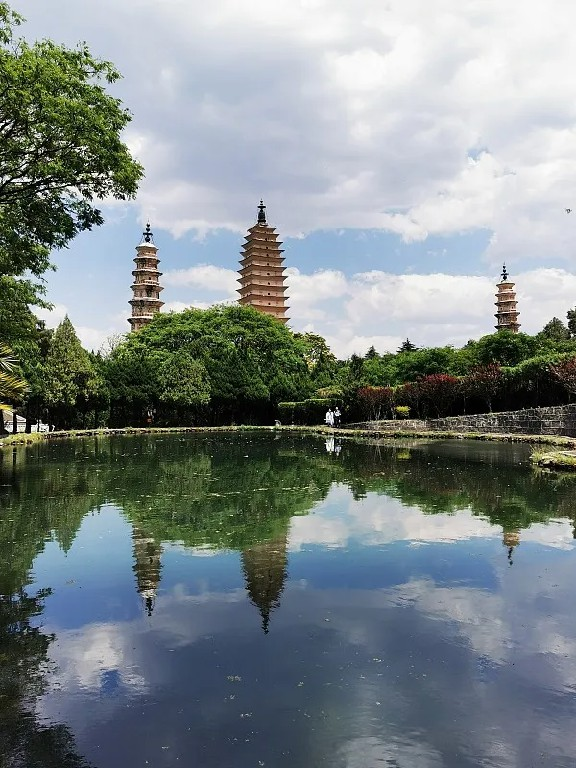ThreePagoda: (236, 196, 290, 326)
